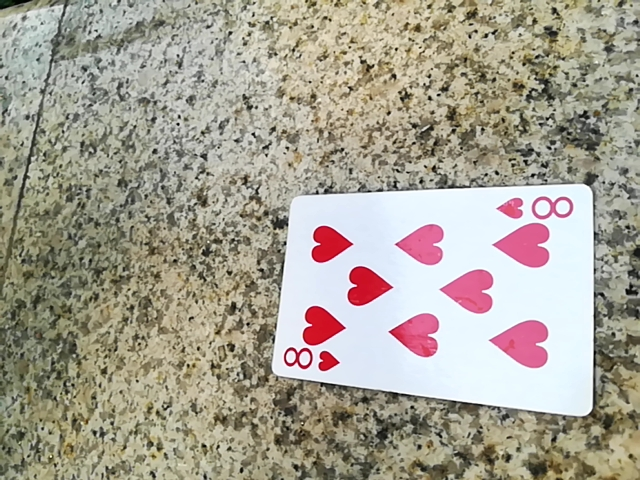hx 8: (275, 188, 595, 418)
